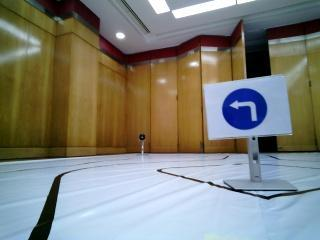left: (206, 86, 286, 128)
